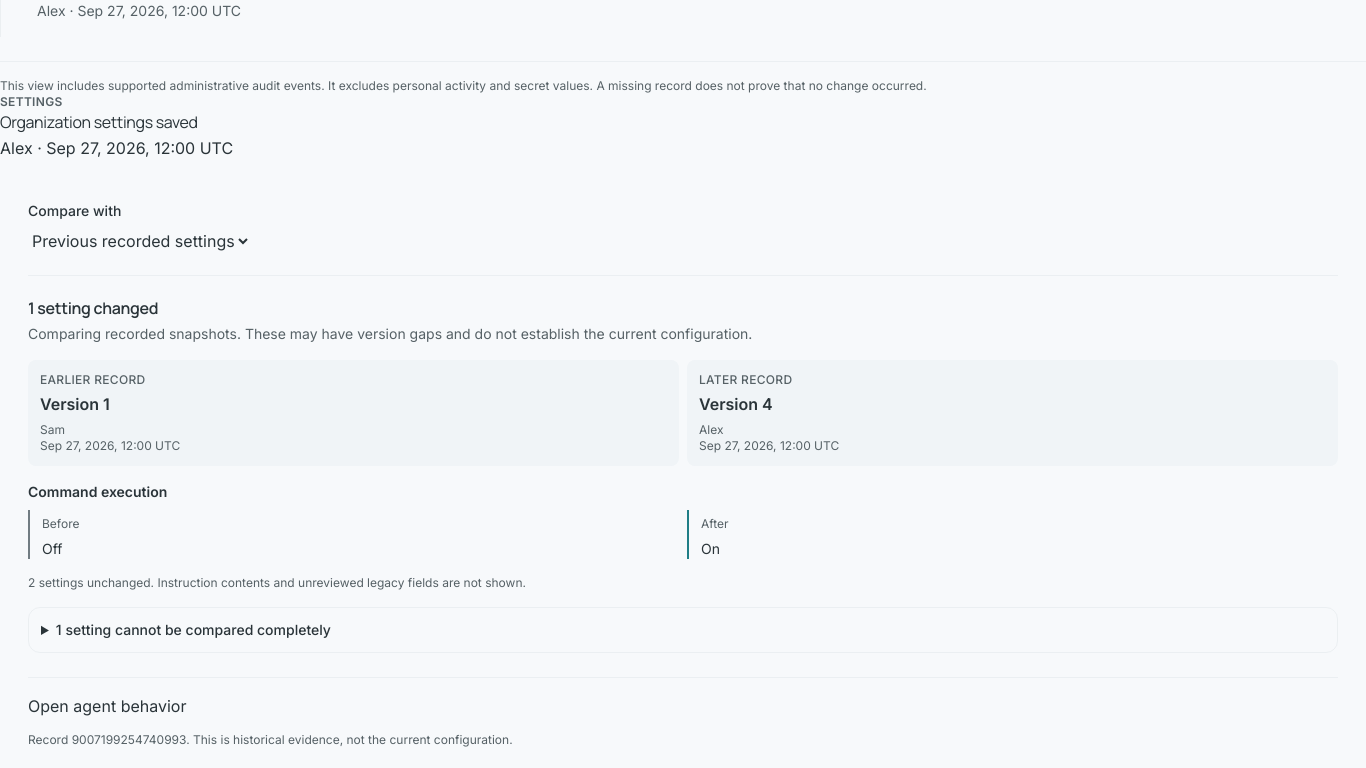
Test case: renders before and after values separately from incomplete historical fields
The image size is (1366, 768).
(page scrolled)
Expected: the heading "1 setting changed" is shown, [28, 297, 158, 319]
Expected: the text "Off" is shown, [42, 540, 62, 557]
Click the heading "1 setting cannot be compared completely" at x=193, y=630, box [56, 621, 331, 638]
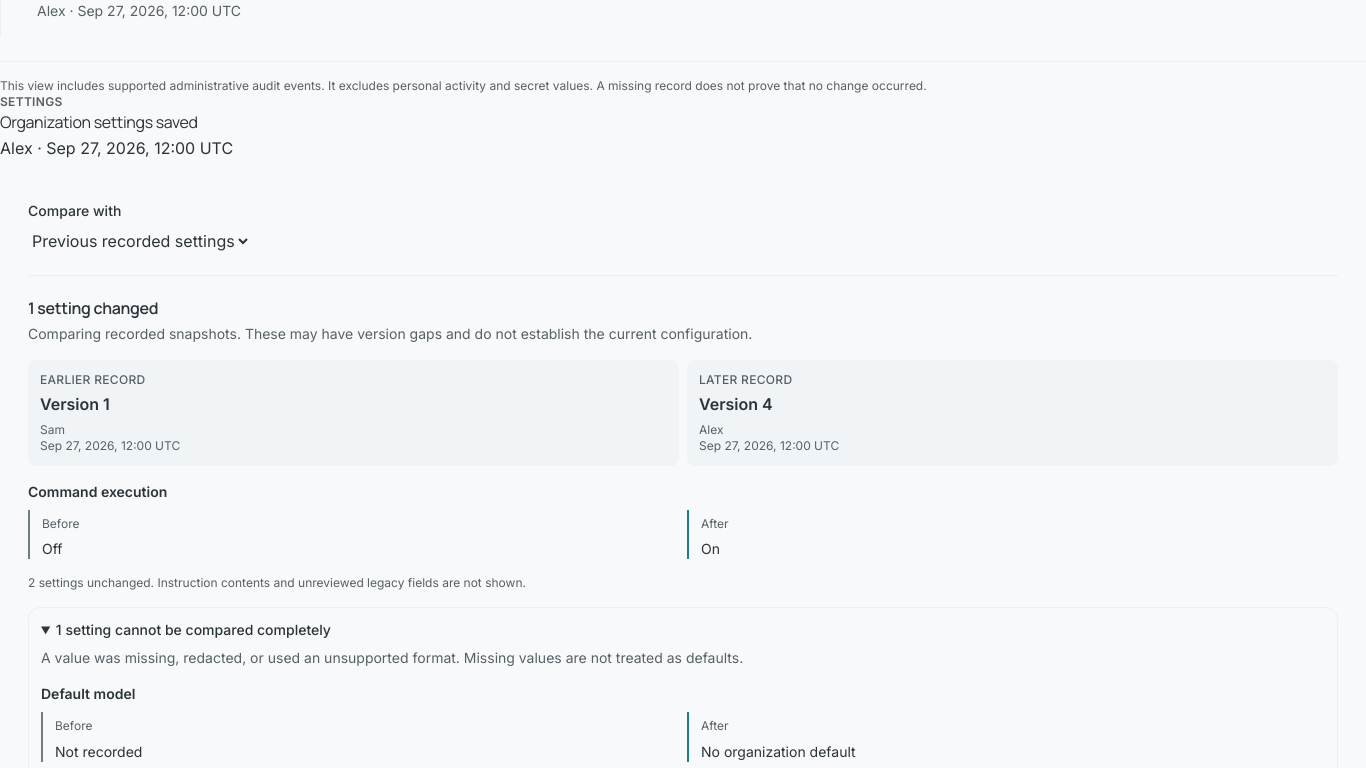
Result: the text "Not recorded" is shown at [55, 743, 142, 760]
Result: the text "No organization default" is shown at [701, 743, 856, 760]
